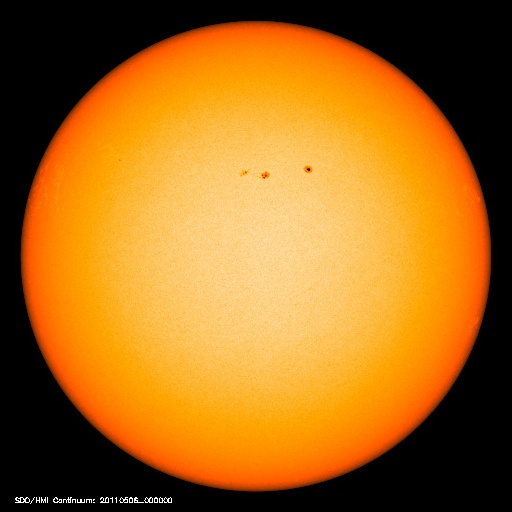sunspot: (229, 156, 325, 188)
